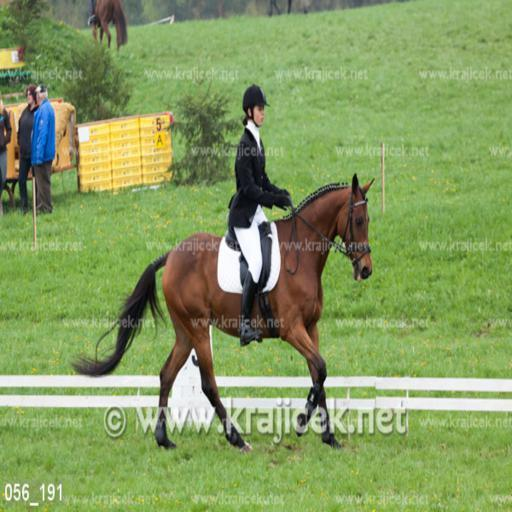horse: (66, 169, 374, 456)
